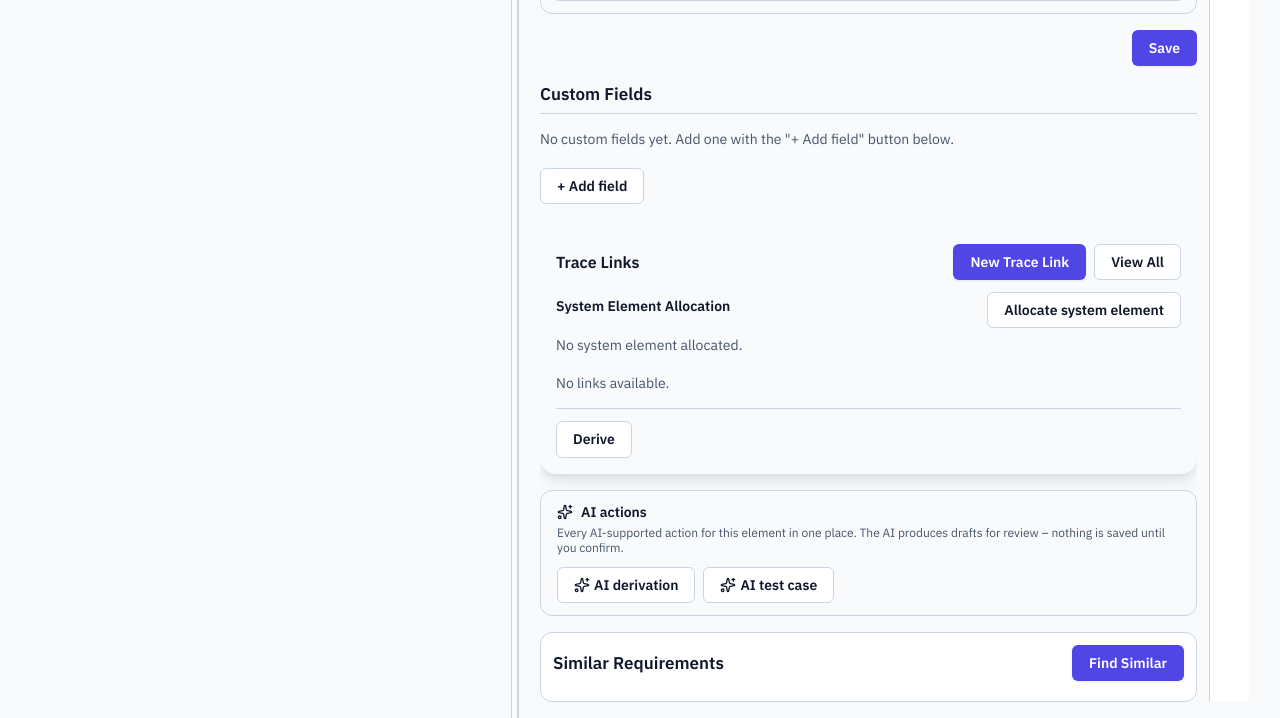
Test: RequirementEditors (COMP-RF-003 / REQ-L2-RF-003) › reports an empty AI derivation as a problem, not as success (issue #311)
(page scrolled)
Click the button with test id "req-ai-derive-btn" at (626,585), box [557,567,695,603]
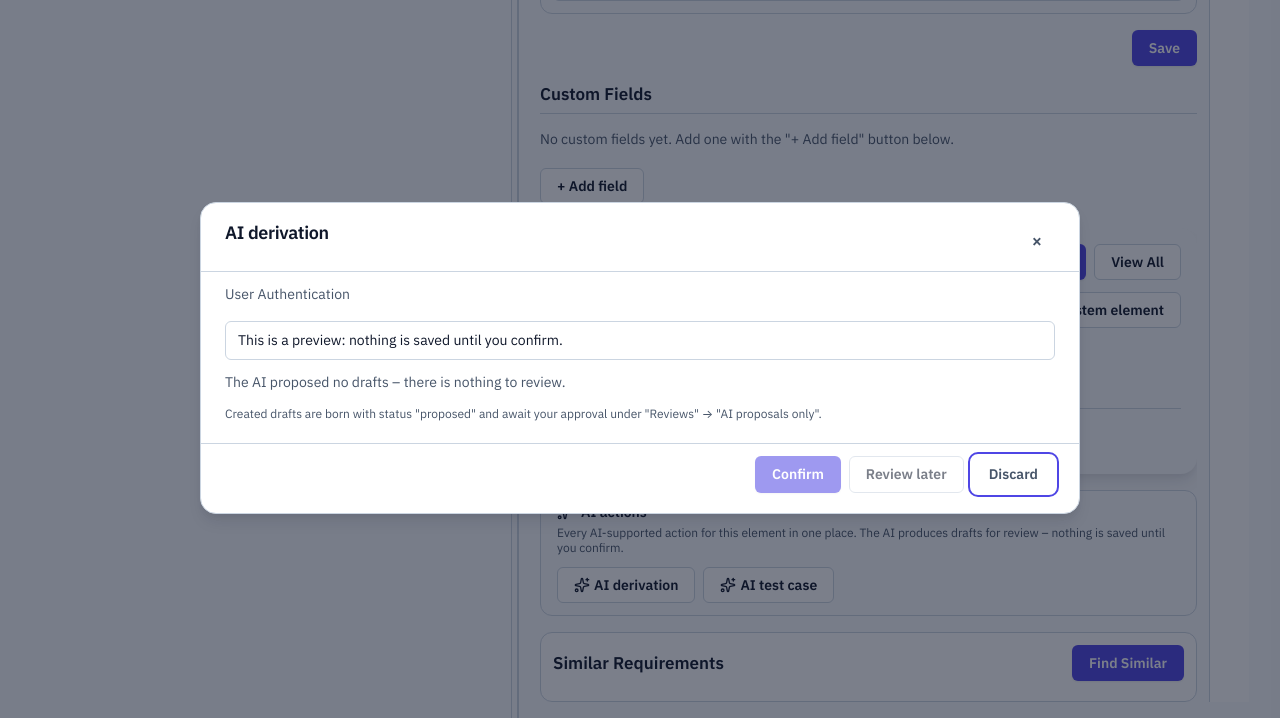
Expected: the text "The AI proposed no drafts – there is nothing to review." is shown, [225,373,566,391]
Expected: the button with test id "req-derive-drafts-confirm" is disabled, [755,456,841,493]
